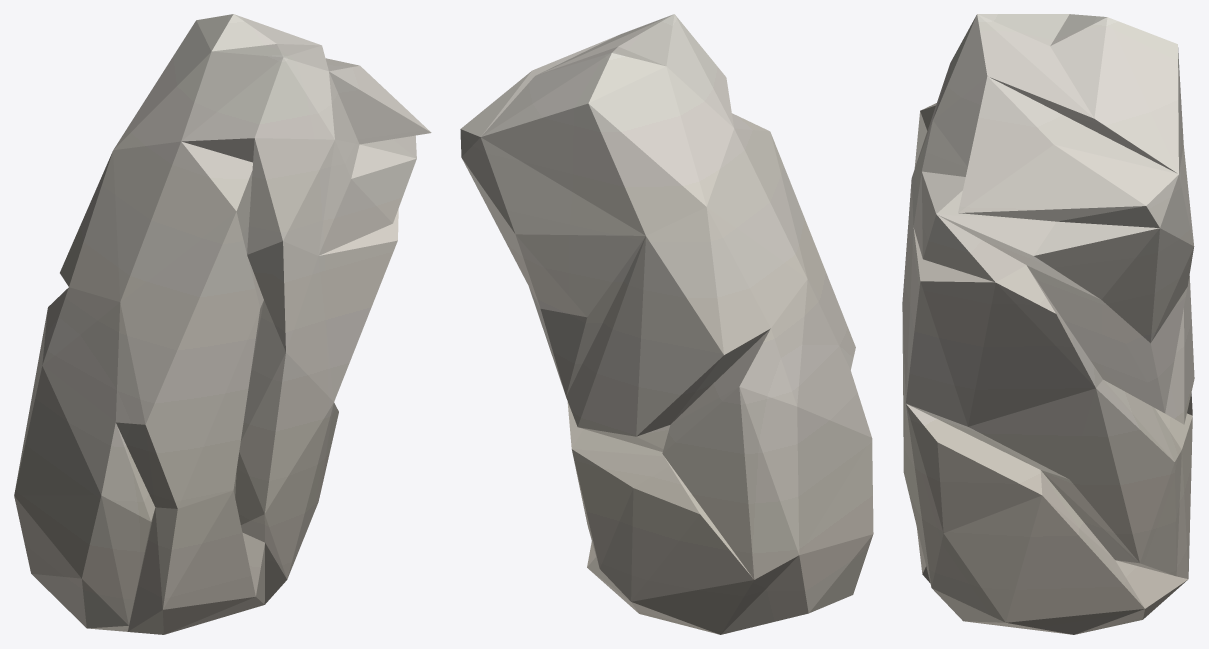
File: 3D_PortalRock2.fbx
3 renders of one model, left to right at view 1: azimuth 30°, elevation 25°; view 2: azimuth 150°, elevation 25°; view 3: azimuth 270°, elevation 25°, orthographic. The views are drawn at different scales.
Parts seen in each view (by area): view 1: PortalRock2; view 2: PortalRock2; view 3: PortalRock2.
Part boxes in pixels (bbox=[...]): PortalRock2: bbox=[14, 14, 431, 634]; PortalRock2: bbox=[460, 14, 873, 634]; PortalRock2: bbox=[902, 14, 1194, 634].
Bounding box in the file's own units: 33.77 × 49.54 × 20.66.
